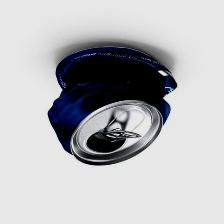can: (42, 38, 186, 175)
